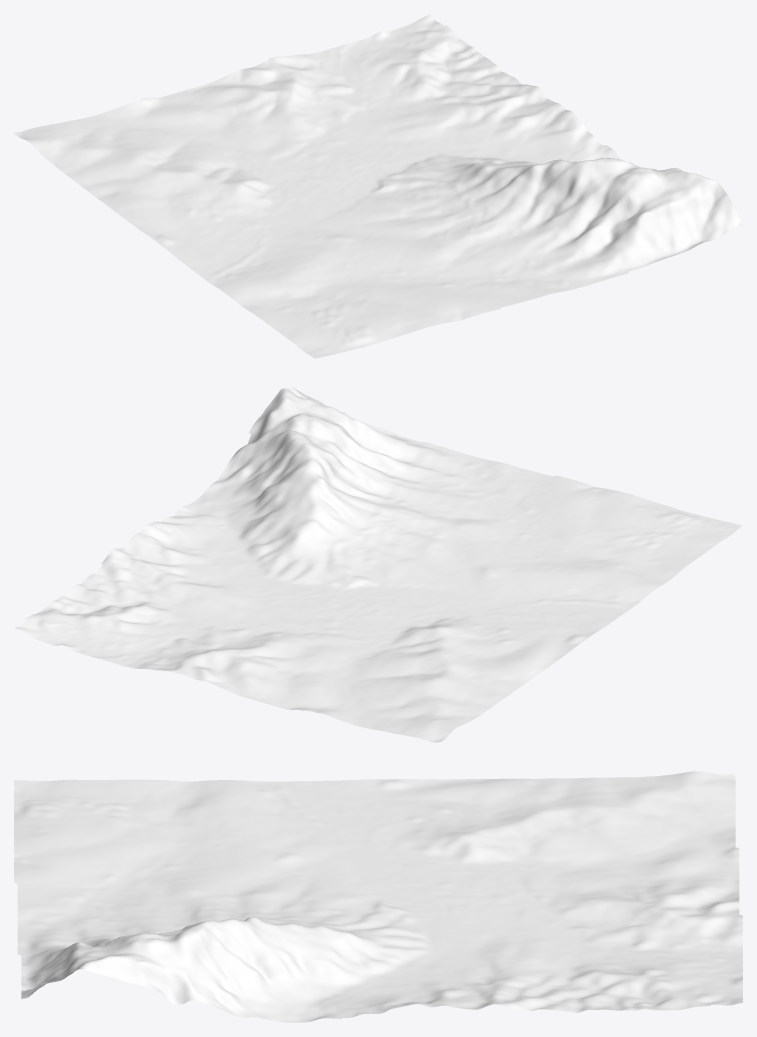
Rendered from terrain.glb.
3 views of the same model, one above another, from view 1: azimuth 30°, elevation 25°; view 2: azimuth 150°, elevation 25°; view 3: azimuth 270°, elevation 25° (orthographic). The views are drawn at different scales.
Visible parts, largest first — view 1: Mesh_0; view 2: Mesh_0; view 3: Mesh_0.
Boxes of the visible parts, left/top/right/bottom form: Mesh_0: left=14, top=14, right=742, bottom=358; Mesh_0: left=14, top=387, right=742, bottom=742; Mesh_0: left=14, top=771, right=742, bottom=1022.
Bounding box in the file's own units: 8995 × 1117 × 11037.
1 material, 1 textured.
